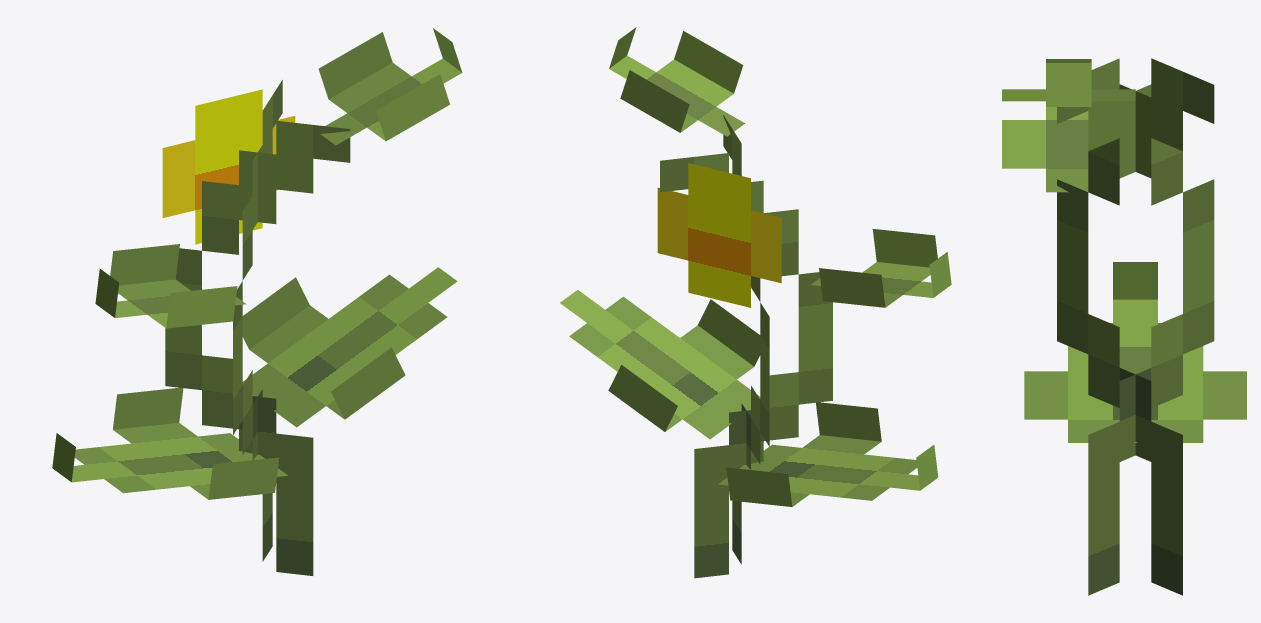
File: cucumber-stage2.gltf
3 views of the same model, side by side, from view 1: azimuth 30°, elevation 25°; view 2: azimuth 150°, elevation 25°; view 3: azimuth 270°, elevation 25° (orthographic). The views are drawn at different scales.
Visible parts, largest first — view 1: cube (×7); view 2: cube (×7); view 3: cube (×5).
Boxes of the visible parts, x1,y1,x2,y2 form: cube (×7): (52,28,462,575); cube (×7): (560,27,951,578); cube (×5): (1002,58,1246,595).
Bounding box in the file's own units: 0.7273 × 0.9322 × 0.3438.
1 material, 1 textured.
